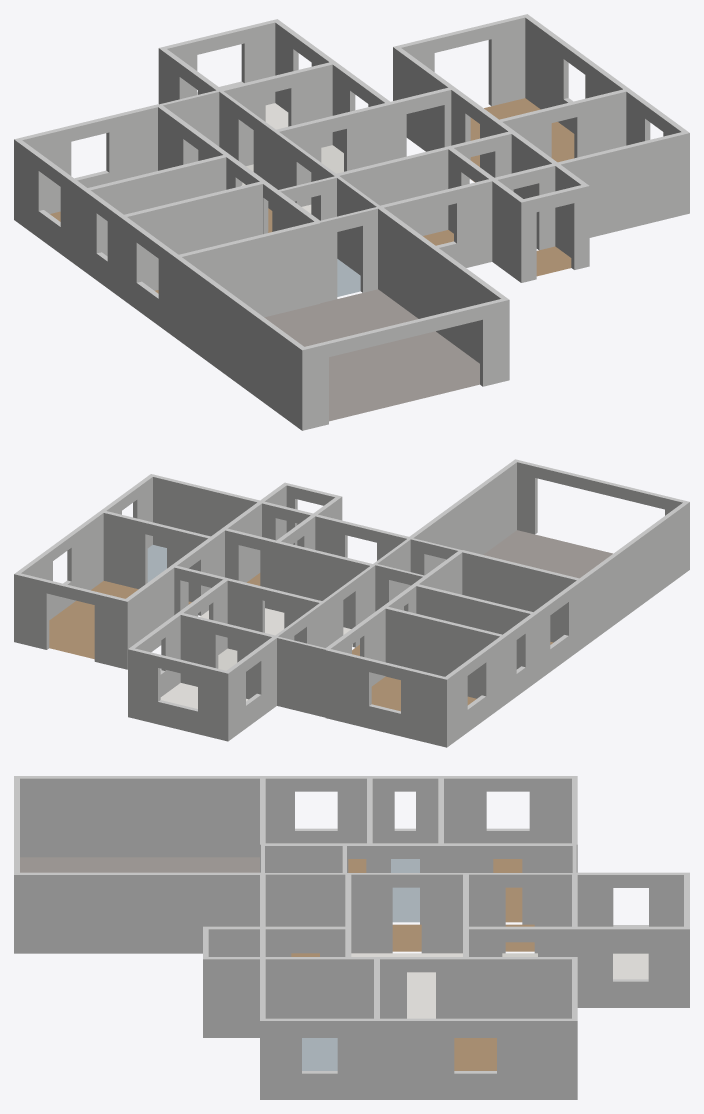
Rendered from the-grand-haven-3d.glb.
The picture shows the model from 3 angles, top to bottom: view 1: azimuth 30°, elevation 25°; view 2: azimuth 150°, elevation 25°; view 3: azimuth 270°, elevation 25°; orthographic projection. The views are drawn at different scales.
Parts seen in each view (by area): view 1: walls, floors; view 2: walls, floors; view 3: walls, floors.
Boxes of the visible parts, x1,y1,x2,y2 form: walls: [14, 14, 689, 430]; floors: [50, 98, 574, 421]; walls: [14, 459, 689, 747]; floors: [49, 530, 612, 711]; walls: [14, 776, 689, 1099]; floors: [20, 857, 648, 1070].
Size of the model in its own units: 16.27 by 2.44 by 18.96.
